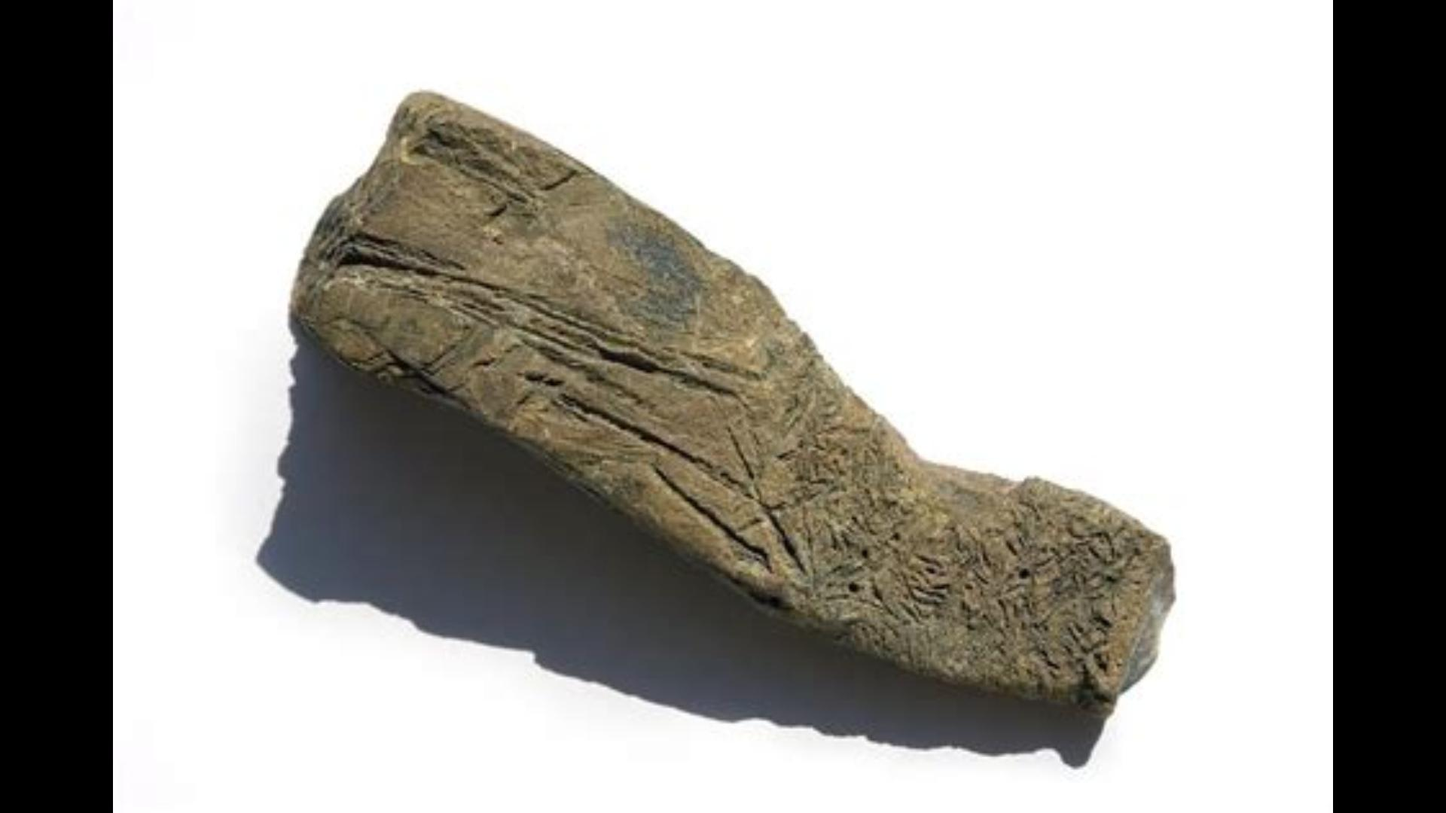rock: (291, 93, 1171, 702)
